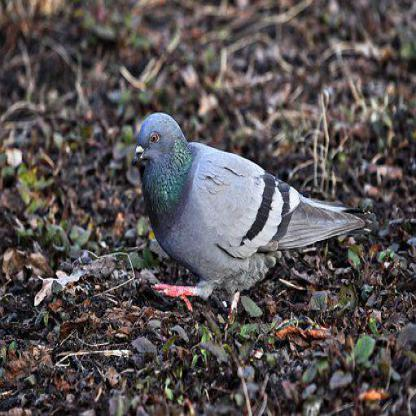Flying Rat: (129, 122, 335, 325)
